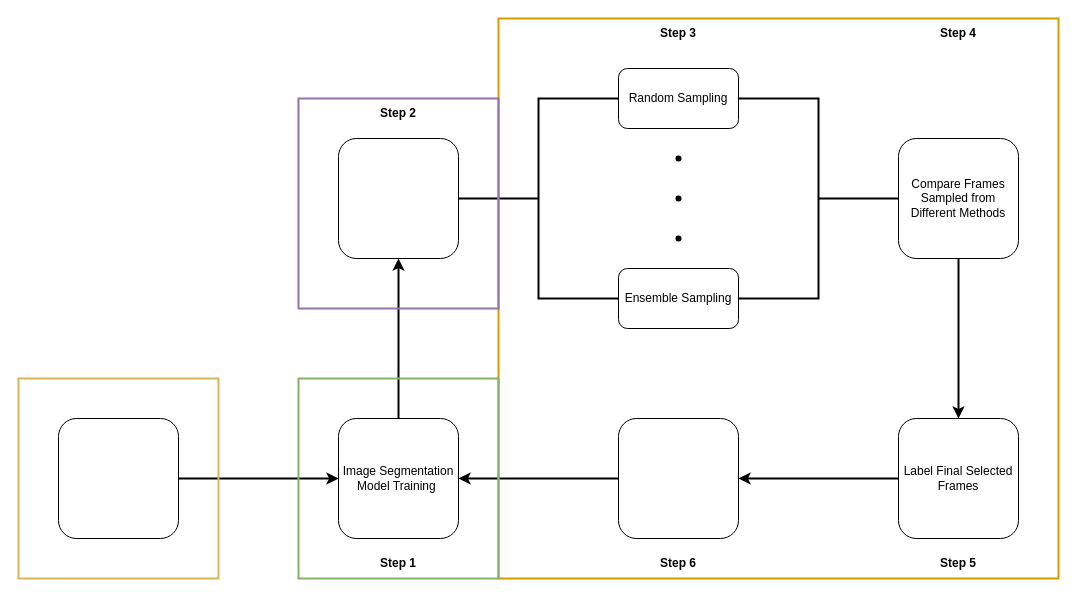
This 1076x596 diagram has some shape labels left out. Here are the shapes that lost their labels. From the top down, the centre of each, then its label:
At (x=398, y=198): "Evaluate on both IND and OOD Dataset".
At (x=118, y=478): "Initialize the Folder and Rando Sample N Starting Frames".
At (x=678, y=478): "Merge Frames into Original Frames Set".
